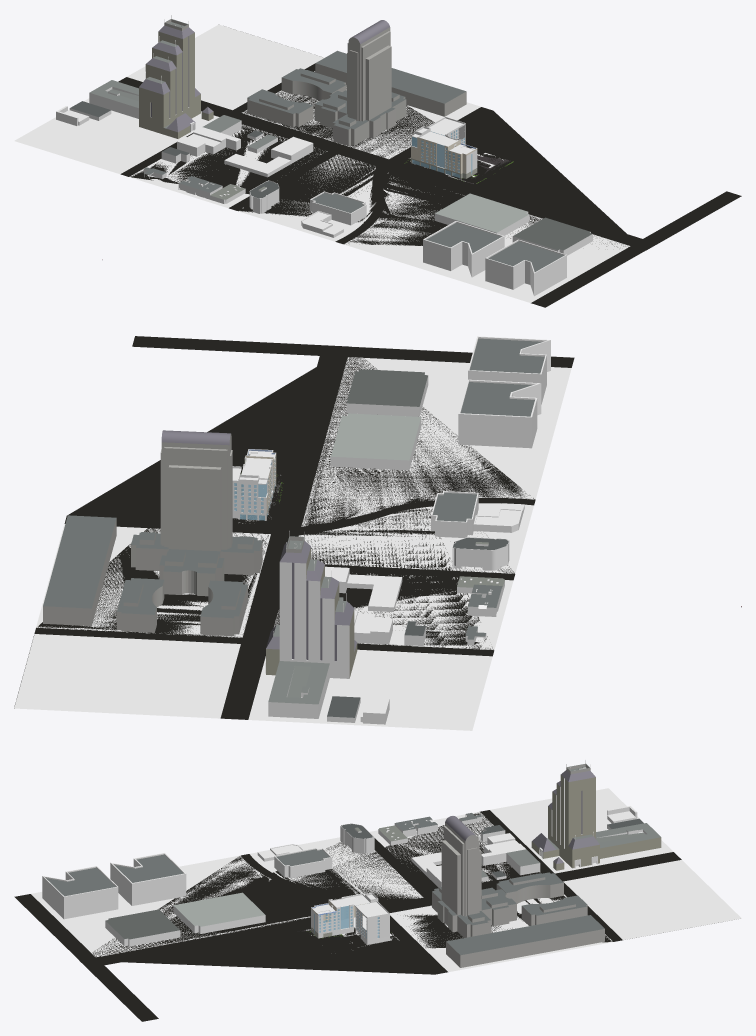
The model's file is 409_magnolia.obj.
3 renders of one model, top to bottom at view 1: azimuth 30°, elevation 25°; view 2: azimuth 150°, elevation 25°; view 3: azimuth 270°, elevation 25°, orthographic. The views are drawn at different scales.
Parts seen in each view (by area): view 1: Mesh2 Downtown_Orlando_2_1 Model, Mesh18 Downtown_Orlando_2_1 Model, Mesh21 G_217057_1_HIS_H2S_ORL_MAGNOLIA1 Model, Mesh3 Downtown_Orlando_2_1 Model, Mesh4 Downtown_Orlando_2_1 Model, Mesh17 Downtown_Orlando_2_1 Model, Mesh20 Downtown_Orlando_2_1 Model, Mesh5 Downtown_Orlando_2_1 Model, Mesh6 Downtown_Orlando_2_1 Model, Mesh19 Downtown_Orlando_2_1 Model; view 2: Mesh2 Downtown_Orlando_2_1 Model, Mesh18 Downtown_Orlando_2_1 Model, Mesh3 Downtown_Orlando_2_1 Model, Mesh4 Downtown_Orlando_2_1 Model, Mesh21 G_217057_1_HIS_H2S_ORL_MAGNOLIA1 Model, Mesh20 Downtown_Orlando_2_1 Model, Mesh17 Downtown_Orlando_2_1 Model, Mesh6 Downtown_Orlando_2_1 Model, Mesh5 Downtown_Orlando_2_1 Model; view 3: Mesh2 Downtown_Orlando_2_1 Model, Mesh21 G_217057_1_HIS_H2S_ORL_MAGNOLIA1 Model, Mesh18 Downtown_Orlando_2_1 Model, Mesh3 Downtown_Orlando_2_1 Model, Mesh4 Downtown_Orlando_2_1 Model, Mesh5 Downtown_Orlando_2_1 Model, Mesh20 Downtown_Orlando_2_1 Model, Mesh6 Downtown_Orlando_2_1 Model, Mesh19 Downtown_Orlando_2_1 Model, Mesh17 Downtown_Orlando_2_1 Model.
Boxes of the visible parts, x1,y1,x2,y2 form: Mesh2 Downtown_Orlando_2_1 Model: (14,15,741,307); Mesh18 Downtown_Orlando_2_1 Model: (332,31,406,145); Mesh21 G_217057_1_HIS_H2S_ORL_MAGNOLIA1 Model: (404,116,513,183); Mesh3 Downtown_Orlando_2_1 Model: (434,193,529,235); Mesh4 Downtown_Orlando_2_1 Model: (512,217,592,255); Mesh17 Downtown_Orlando_2_1 Model: (224,136,313,177); Mesh20 Downtown_Orlando_2_1 Model: (348,20,390,121); Mesh5 Downtown_Orlando_2_1 Model: (178,176,245,203); Mesh6 Downtown_Orlando_2_1 Model: (249,180,279,213); Mesh19 Downtown_Orlando_2_1 Model: (349,50,358,120); Mesh2 Downtown_Orlando_2_1 Model: (14,336,574,730); Mesh18 Downtown_Orlando_2_1 Model: (131,447,262,575); Mesh3 Downtown_Orlando_2_1 Model: (330,413,421,470); Mesh4 Downtown_Orlando_2_1 Model: (346,369,428,416); Mesh21 G_217057_1_HIS_H2S_ORL_MAGNOLIA1 Model: (232,449,283,523); Mesh20 Downtown_Orlando_2_1 Model: (161,430,231,548); Mesh17 Downtown_Orlando_2_1 Model: (325,566,402,611); Mesh6 Downtown_Orlando_2_1 Model: (452,537,509,570); Mesh5 Downtown_Orlando_2_1 Model: (457,576,504,616); Mesh2 Downtown_Orlando_2_1 Model: (14,760,741,1021); Mesh21 G_217057_1_HIS_H2S_ORL_MAGNOLIA1 Model: (302,892,399,947); Mesh18 Downtown_Orlando_2_1 Model: (432,826,491,937); Mesh3 Downtown_Orlando_2_1 Model: (173,892,265,933); Mesh4 Downtown_Orlando_2_1 Model: (105,909,180,946); Mesh5 Downtown_Orlando_2_1 Model: (378,816,437,845); Mesh20 Downtown_Orlando_2_1 Model: (445,816,478,916); Mesh6 Downtown_Orlando_2_1 Model: (340,823,374,853); Mesh19 Downtown_Orlando_2_1 Model: (467,847,476,916); Mesh17 Downtown_Orlando_2_1 Model: (411,852,441,887).
Bounding box in the file's own units: 736 × 127 × 869.
Materials: 30 (7 with a texture image).
